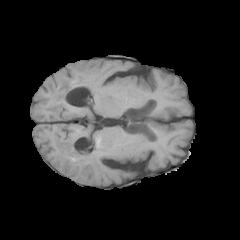glioma: (47, 78, 100, 176)
